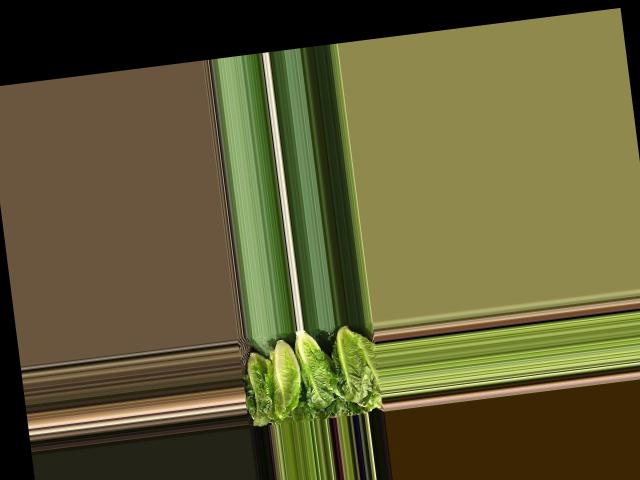lettuce: (245, 353, 276, 427)
